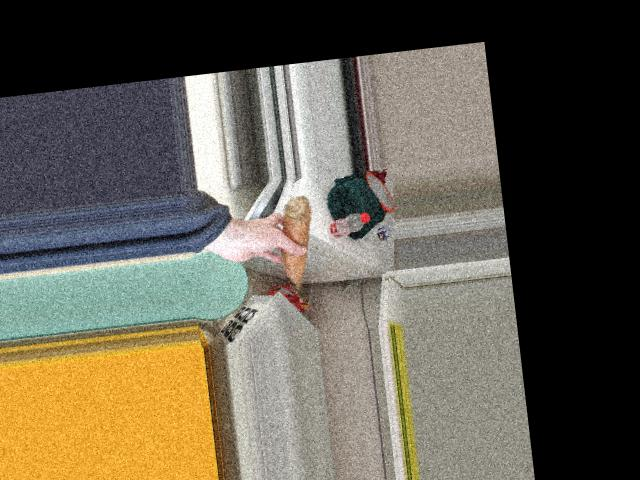sweet_potato: (278, 195, 312, 288)
